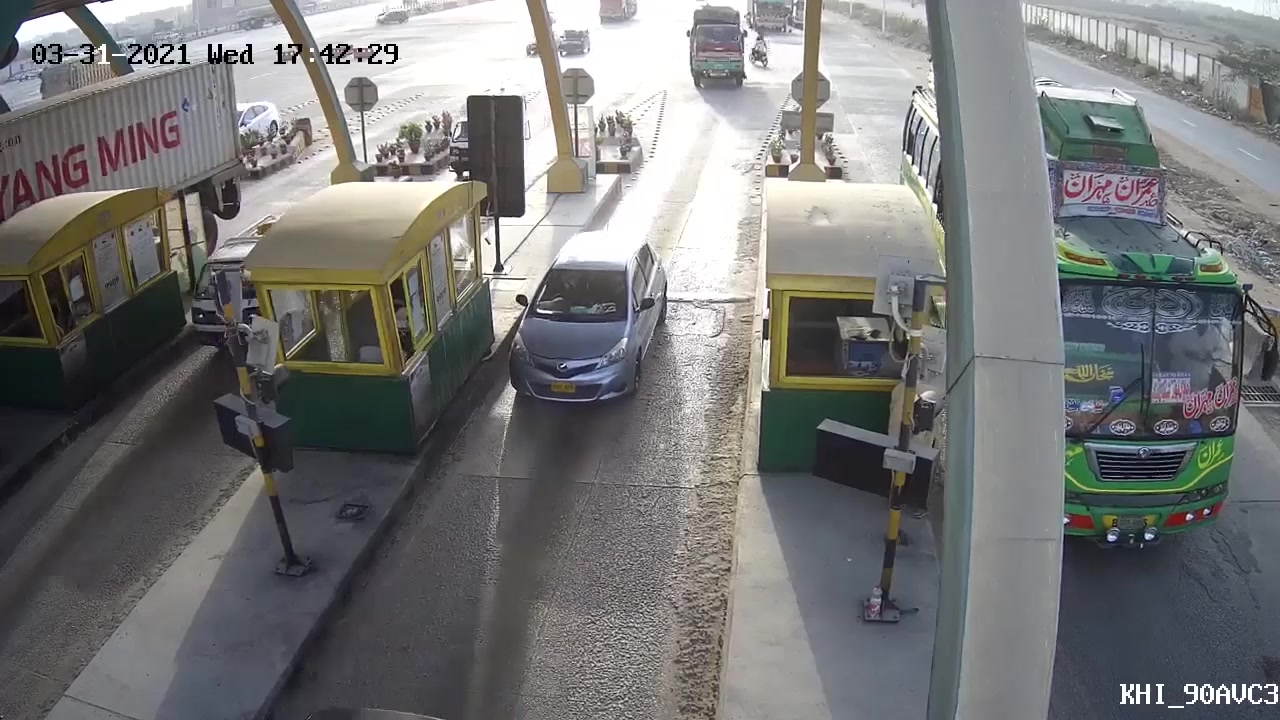F1: (497, 219, 680, 424)
